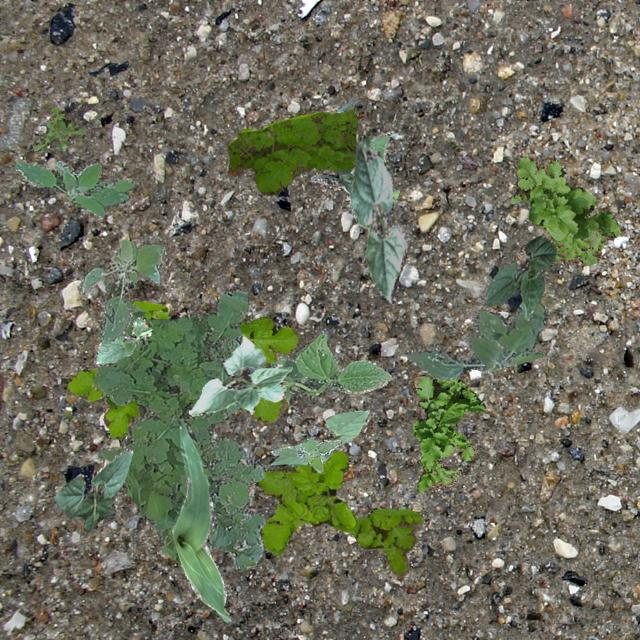crop: (170, 418, 230, 620), (349, 134, 406, 302), (310, 102, 398, 206), (268, 332, 392, 400), (188, 334, 292, 414), (52, 446, 132, 530), (484, 234, 556, 318), (268, 410, 368, 466), (92, 314, 150, 366)
weed: (92, 276, 266, 568), (65, 300, 298, 438), (254, 450, 420, 576), (508, 156, 618, 264), (406, 300, 544, 380), (228, 108, 356, 194), (76, 238, 166, 342), (410, 376, 484, 492), (13, 160, 134, 216), (270, 436, 340, 472), (31, 106, 86, 150)
